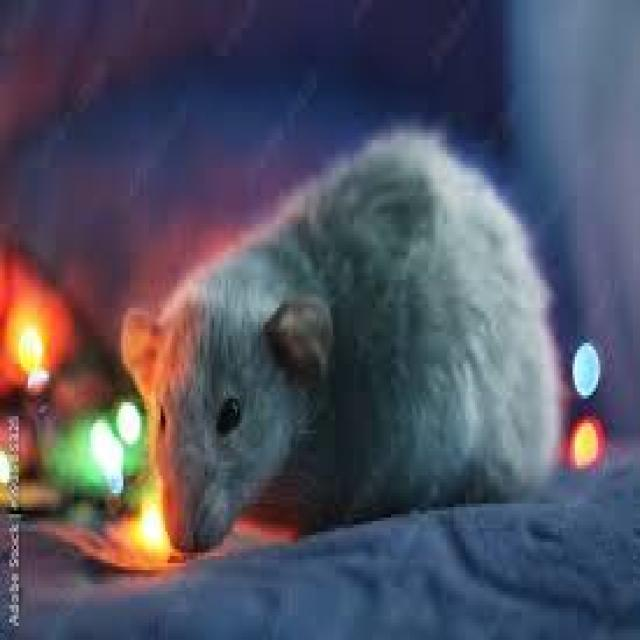Rat: (83, 41, 630, 584)
